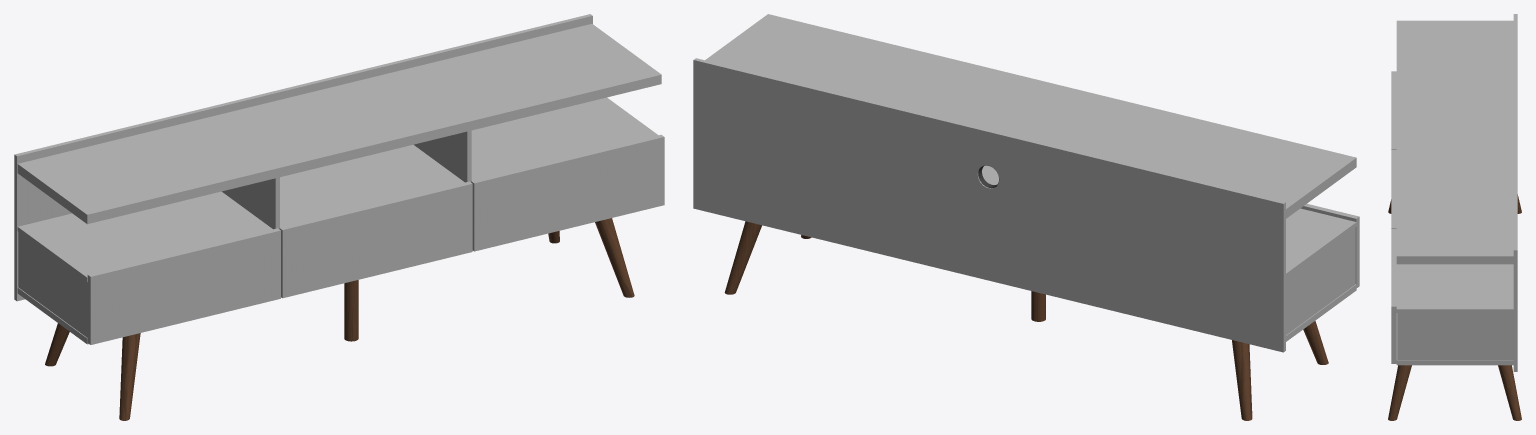
Rendered from MDSA-Rack.gltf.
3 views of the same model, side by side, from view 1: azimuth 30°, elevation 25°; view 2: azimuth 150°, elevation 25°; view 3: azimuth 270°, elevation 25° (orthographic). The views are drawn at different scales.
Parts seen in each view (by area): view 1: Box001, Box002, Box008, Box010, Box009, Box013, Box015, Box006, Box007, VIFS077, VIFS079, VIFS069; view 2: Box013, Box001, Box015, Box002, VIFS073, VIFS075, Box008; view 3: Box001, Box002, Box014, Box013, Box010, Box011, VIFS079, VIFS075, Box008, Box009.
Part boxes in pixels (x1=…): Box001: x1=17, y1=24, x2=661, y2=224; Box002: x1=17, y1=97, x2=658, y2=281; Box008: x1=87, y1=228, x2=280, y2=344; Box010: x1=471, y1=134, x2=664, y2=251; Box009: x1=279, y1=181, x2=472, y2=298; Box013: x1=14, y1=14, x2=592, y2=301; Box015: x1=18, y1=232, x2=87, y2=337; Box006: x1=414, y1=130, x2=471, y2=182; Box007: x1=222, y1=177, x2=279, y2=229; VIFS077: x1=119, y1=333, x2=140, y2=420; VIFS079: x1=595, y1=218, x2=634, y2=297; VIFS069: x1=344, y1=280, x2=358, y2=341; Box013: x1=693, y1=58, x2=1285, y2=352; Box001: x1=705, y1=14, x2=1356, y2=218; Box015: x1=1286, y1=227, x2=1355, y2=334; Box002: x1=982, y1=165, x2=1356, y2=277; VIFS073: x1=1232, y1=340, x2=1252, y2=420; VIFS075: x1=724, y1=221, x2=761, y2=294; Box008: x1=1300, y1=204, x2=1359, y2=287; Box001: x1=1396, y1=20, x2=1513, y2=264; Box002: x1=1396, y1=264, x2=1513, y2=312; Box014: x1=1397, y1=313, x2=1513, y2=359; Box013: x1=1513, y1=14, x2=1517, y2=371; Box010: x1=1391, y1=228, x2=1396, y2=363; Box011: x1=1396, y1=313, x2=1513, y2=365; VIFS079: x1=1388, y1=365, x2=1411, y2=420; VIFS075: x1=1498, y1=365, x2=1521, y2=420; Box008: x1=1391, y1=71, x2=1396, y2=149; Box009: x1=1391, y1=150, x2=1396, y2=228.
Bounding box in the file's own units: 1.61 × 0.5816 × 0.3847.
Materials: 3 (1 with a texture image).
